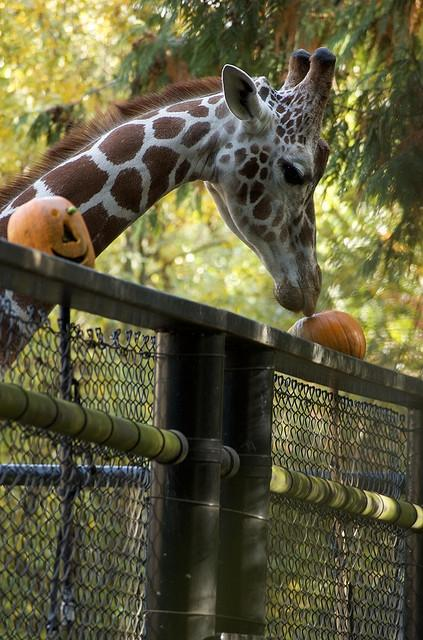pumpkin: (7, 195, 95, 269), (287, 309, 366, 360)
